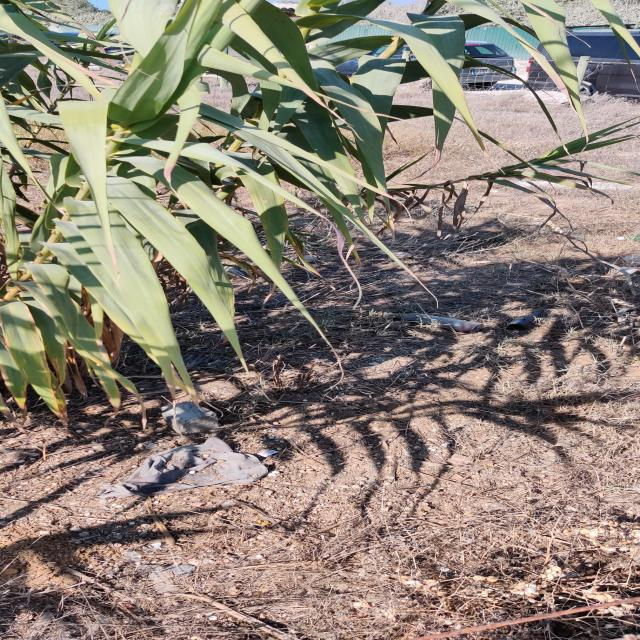litter: (99, 436, 270, 499), (394, 314, 481, 332), (507, 312, 540, 330), (259, 450, 276, 457)
